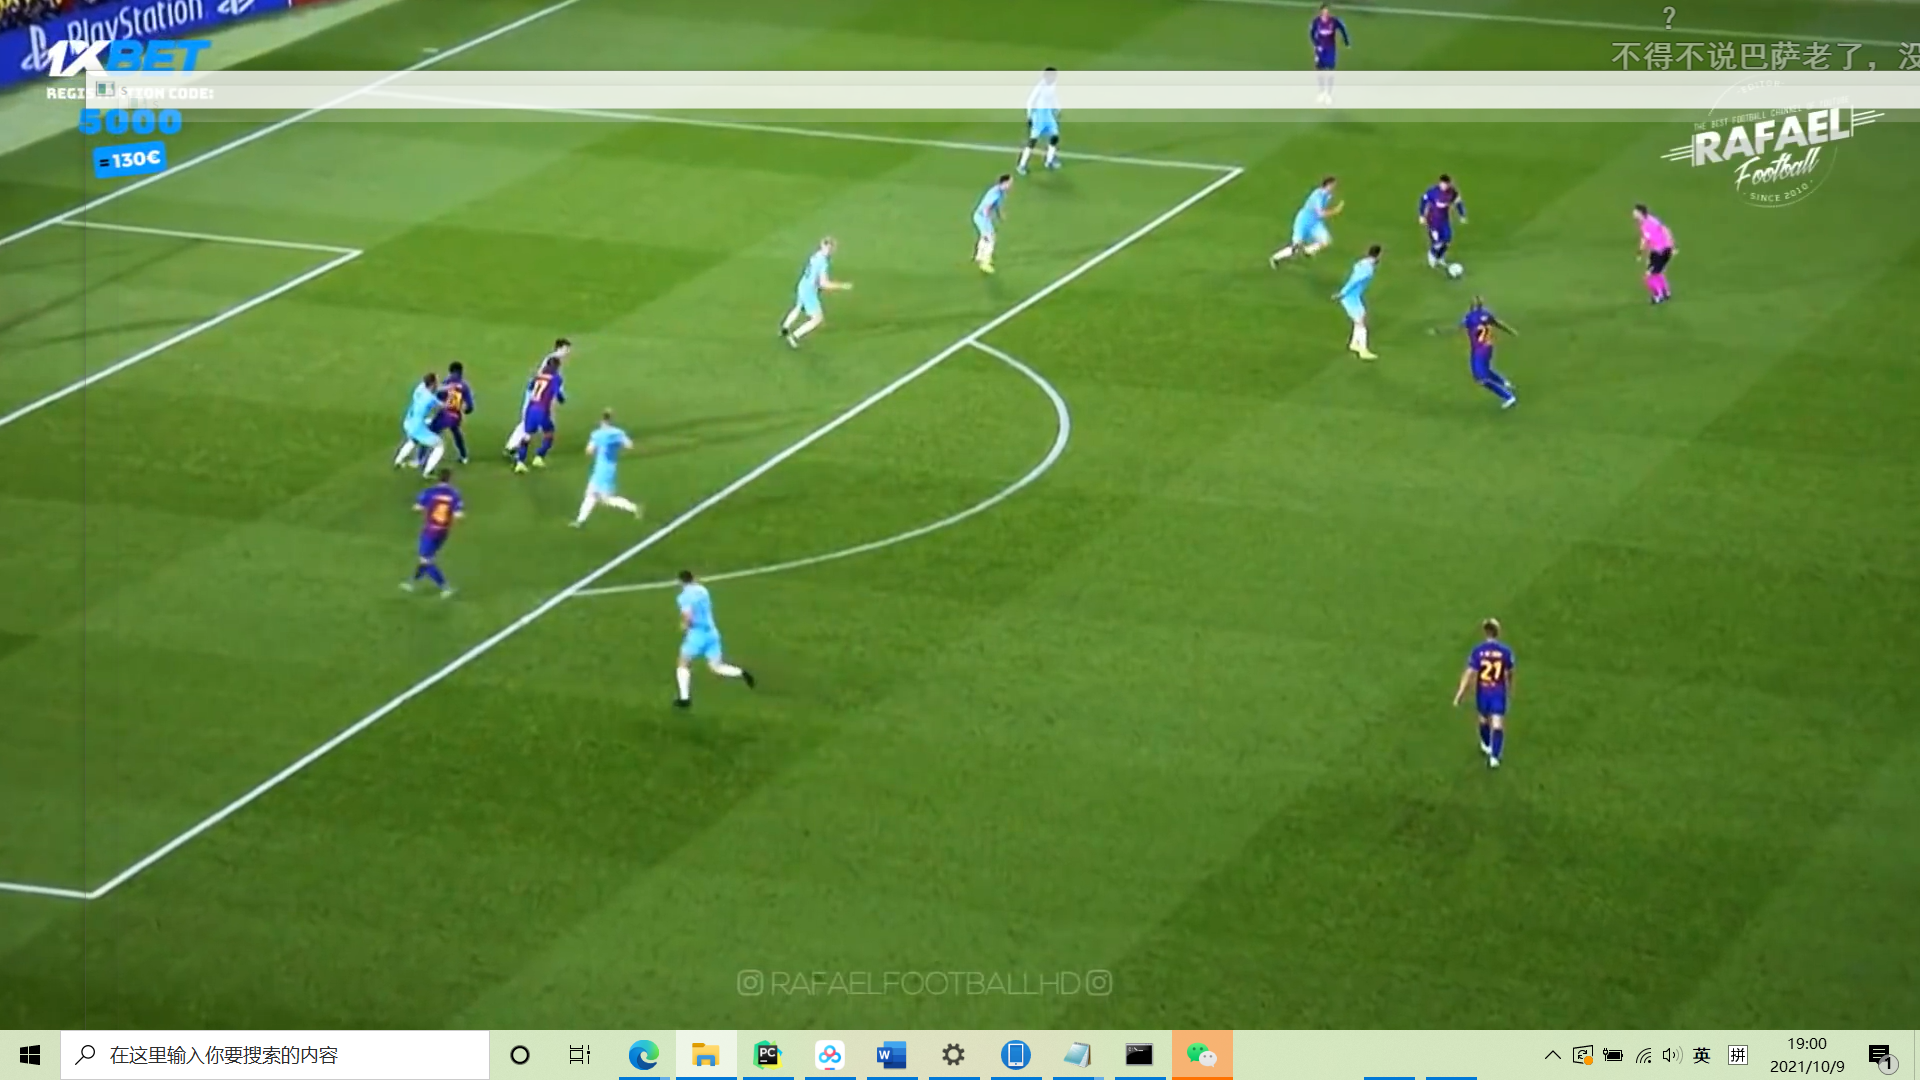ft: (1447, 262, 1465, 280)
